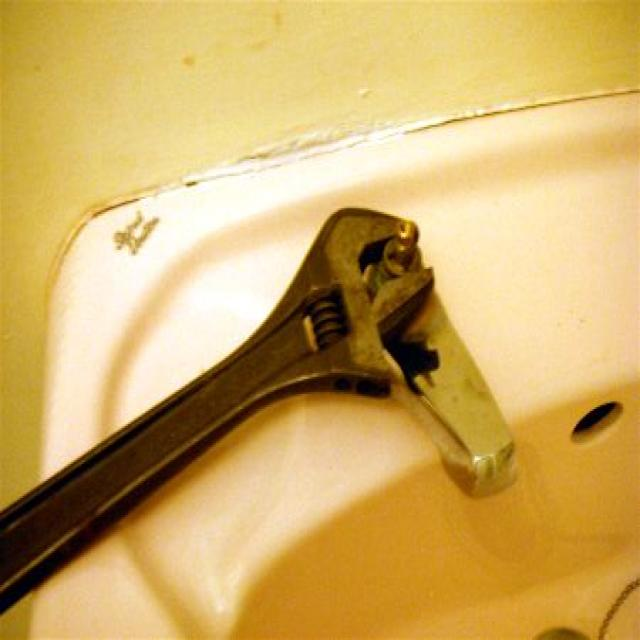scissors: (8, 482, 12, 487)
water_tap: (406, 186, 520, 504)
wrench: (4, 204, 435, 496)
